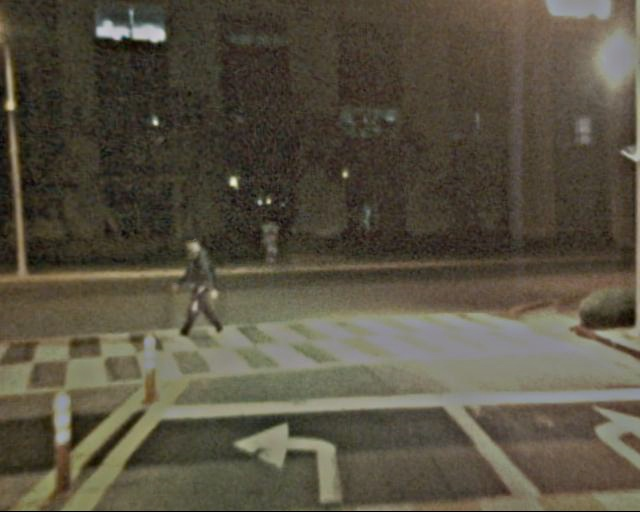person: (175, 233, 219, 340)
